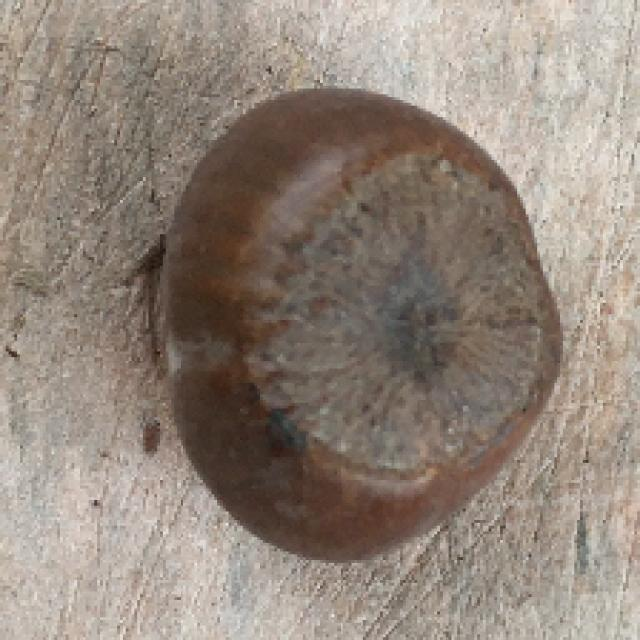damagedHazelnut: (158, 82, 568, 563)
